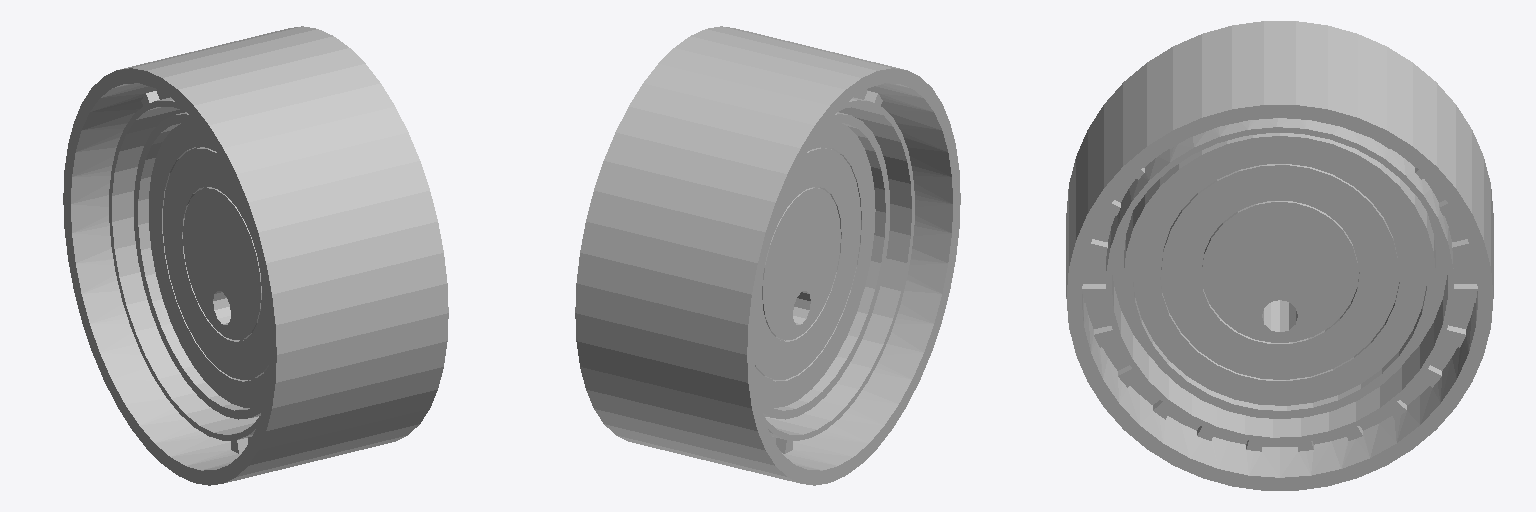
File: Натяжной ролик.obj
3 renders of one model, left to right at view 1: azimuth 30°, elevation 25°; view 2: azimuth 150°, elevation 25°; view 3: azimuth 270°, elevation 25°, orthographic.
Parts seen in each view (by area): view 1: Натяжной_ролик; view 2: Натяжной_ролик; view 3: Натяжной_ролик.
Boxes of the visible parts, x1=… form: Натяжной_ролик: x1=63, y1=26, x2=448, y2=485; Натяжной_ролик: x1=575, y1=26, x2=960, y2=485; Натяжной_ролик: x1=1066, y1=21, x2=1493, y2=490.
Size of the model in its own units: 33 by 70.8 by 71.